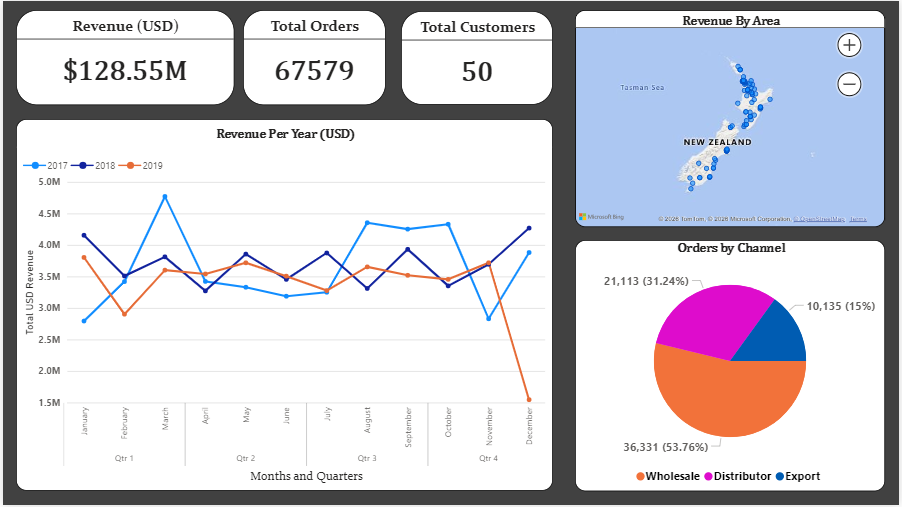

The dashboard page shown, as its layout file describes it:
{"tool":"powerbi","page":{"name":"Map View","canvas":[1280,720],"ordinal":0},"visuals":[{"type":"map","title":"Revenue By  Area","fields":{"Y":["project_1 regions.latitude"],"X":["project_1 regions.longitude"]},"box":[817.1,12.9,442.9,310],"z":0},{"type":"lineChart","title":"Revenue Per Year (USD)","fields":{"Y":["project_1 sales_order.Total USD Revenue"],"Category":["project_1 sales_order.order_date.Variation.Date Hierarchy.Quarter","project_1 sales_order.order_date.Variation.Date Hierarchy.Month"],"Series":["project_1 sales_order.order_date.Variation.Date Hierarchy.Year"]},"box":[18.6,168.6,767.1,531.4],"z":1000},{"type":"card","title":"Total Orders","fields":{"Values":["Sum(project_1 sales_order.order_quantity)"]},"box":[342.2,12.5,203.6,135.8],"z":2000},{"type":"card","title":"Revenue (USD)","fields":{"Values":["project_1 sales_order.Total USD Revenue"]},"box":[18,12.5,311.7,135.8],"z":3000},{"type":"pieChart","title":"Orders by Channel","fields":{"Category":["project_1 sales_order.channel"],"Y":["Sum(project_1 sales_order.order_quantity)"]},"box":[817.1,341.4,442.9,358.6],"z":3001},{"type":"card","title":"Total Customers","fields":{"Values":["Count(project_1 sales_order.cust_name_index)"]},"box":[568,13.9,217.5,134.4],"z":3002}]}

Visuals, with their boxes in screenshot pixels (x1, y1, x2, y2), scaled from the page's 1280x720 canvas onto the 902x507 screenshot:
"Revenue By  Area" map: rect(576, 9, 888, 227)
"Revenue Per Year (USD)" lineChart: rect(13, 119, 554, 493)
"Total Orders" card: rect(241, 9, 385, 104)
"Revenue (USD)" card: rect(13, 9, 232, 104)
"Orders by Channel" pieChart: rect(576, 240, 888, 493)
"Total Customers" card: rect(400, 10, 554, 104)
